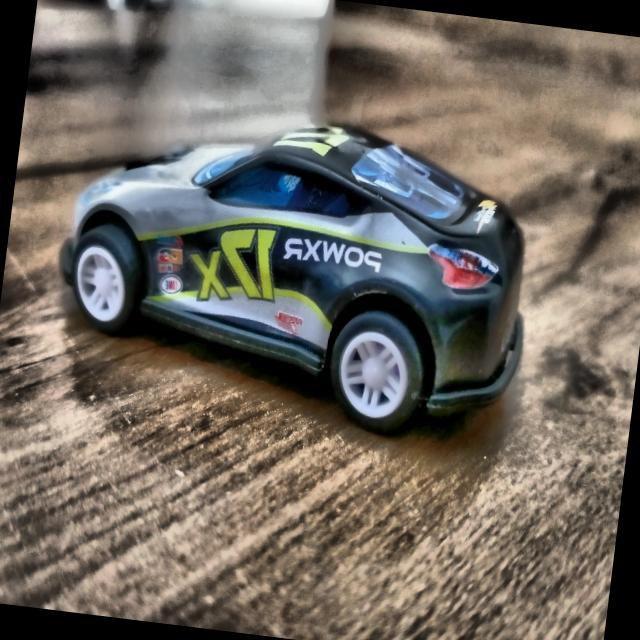Car: (44, 92, 538, 437)
